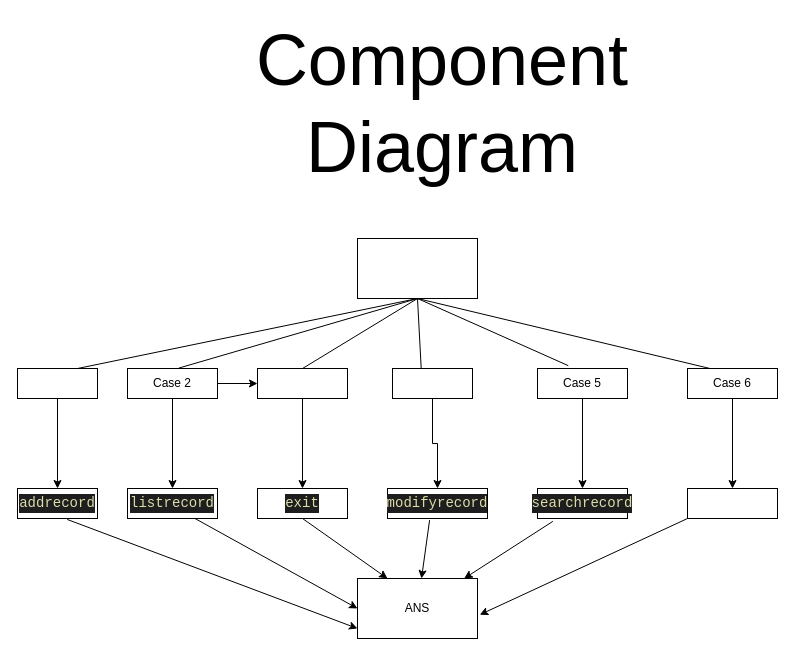
This 800x656 diagram has some shape labels left out. The box of each missing label's shape, as (x1, y1, x2, y2) in pixels:
Case 1: (16, 368, 98, 398)
Case 3: (256, 368, 348, 398)
Case 4: (392, 368, 472, 398)
deleterecord: (686, 488, 778, 518)
Main: (356, 238, 478, 298)
